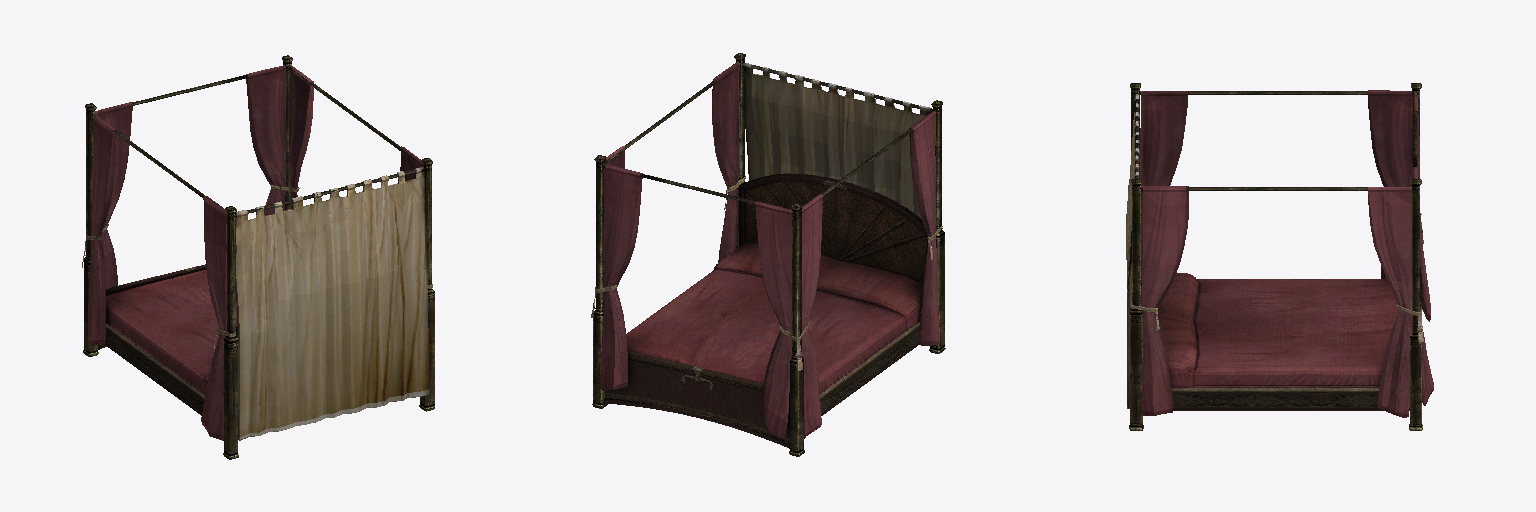
The picture shows the model from 3 angles: view 1: azimuth 30°, elevation 25°; view 2: azimuth 150°, elevation 25°; view 3: azimuth 270°, elevation 25°; orthographic projection.
Parts seen in each view (by area): view 1: 4PosterBedAlt; view 2: 4PosterBedAlt; view 3: 4PosterBedAlt.
Part boxes in pixels (x1,y1,x2,y2): 4PosterBedAlt: (82, 55, 434, 459); 4PosterBedAlt: (591, 53, 945, 456); 4PosterBedAlt: (1126, 83, 1433, 430).
Bounding box in the file's own units: 238 × 257 × 289.
Materials: 2 (1 with a texture image).